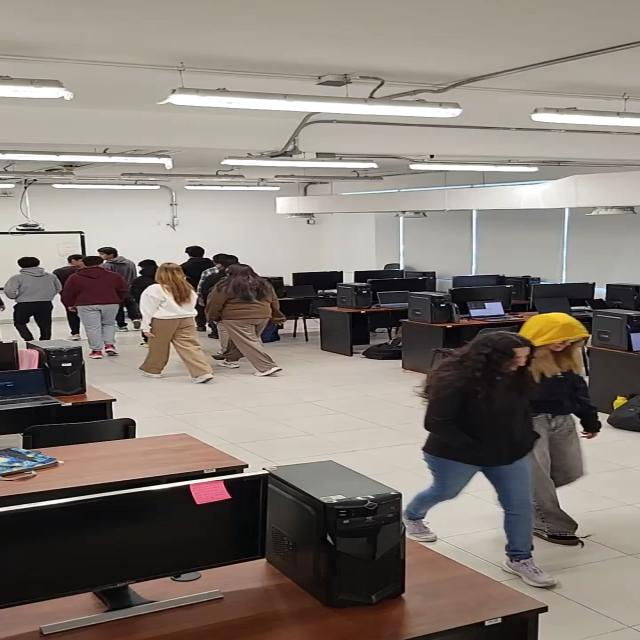Persona: (403, 330, 548, 588), (525, 318, 610, 550), (136, 261, 210, 386), (214, 263, 282, 380), (65, 256, 124, 358), (5, 255, 59, 344)
